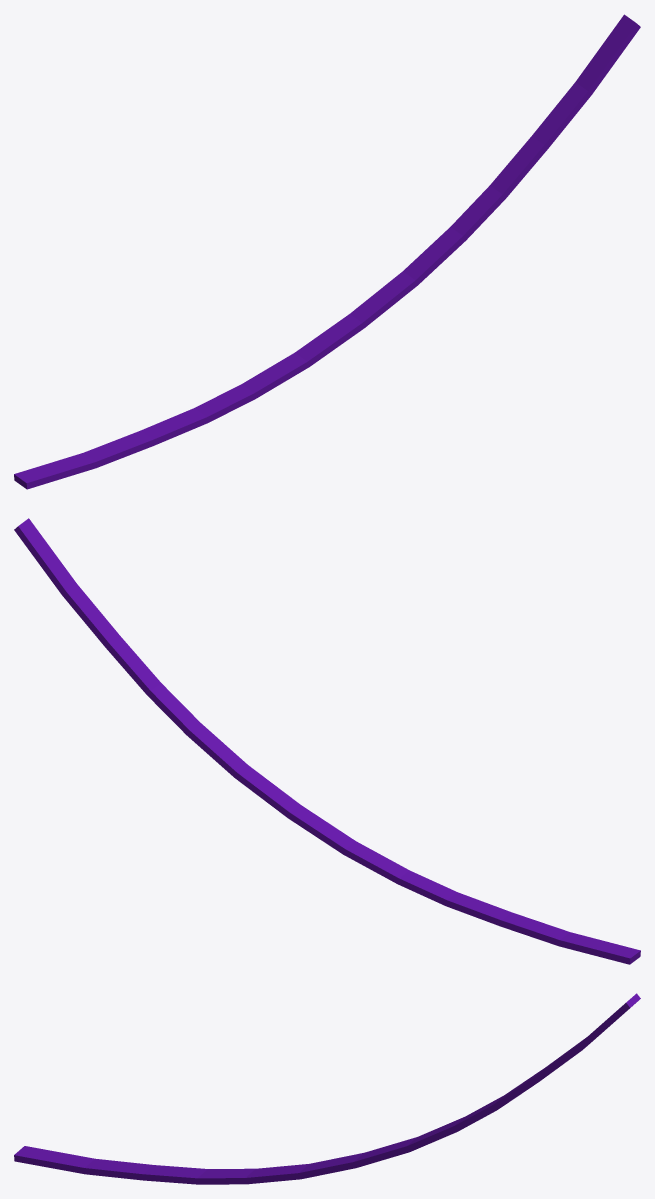
Rendered from Tape_13_chunks.fbx.
3 views of the same model, one above another, from view 1: azimuth 30°, elevation 25°; view 2: azimuth 150°, elevation 25°; view 3: azimuth 330°, elevation 25° (orthographic). The views are drawn at different scales.
Visible parts, largest first — view 1: Tape_13_0, Tape_13_3, Tape_13_2, Tape_13_1; view 2: Tape_13_0, Tape_13_3, Tape_13_1, Tape_13_2; view 3: Tape_13_0, Tape_13_3, Tape_13_2, Tape_13_1.
Boxes of the visible parts, x1=… form: Tape_13_0: x1=14, y1=348, x2=325, y2=489; Tape_13_3: x1=398, y1=14, x2=640, y2=274; Tape_13_2: x1=371, y1=181, x2=520, y2=316; Tape_13_1: x1=298, y1=277, x2=395, y2=359; Tape_13_0: x1=337, y1=829, x2=640, y2=964; Tape_13_3: x1=14, y1=518, x2=242, y2=776; Tape_13_1: x1=236, y1=778, x2=348, y2=857; Tape_13_2: x1=157, y1=678, x2=291, y2=798; Tape_13_0: x1=14, y1=1146, x2=317, y2=1184; Tape_13_3: x1=418, y1=993, x2=640, y2=1136; Tape_13_2: x1=362, y1=1100, x2=511, y2=1163; Tape_13_1: x1=311, y1=1139, x2=408, y2=1177.
Bounding box in the file's own units: 732 × 345 × 44.65.
